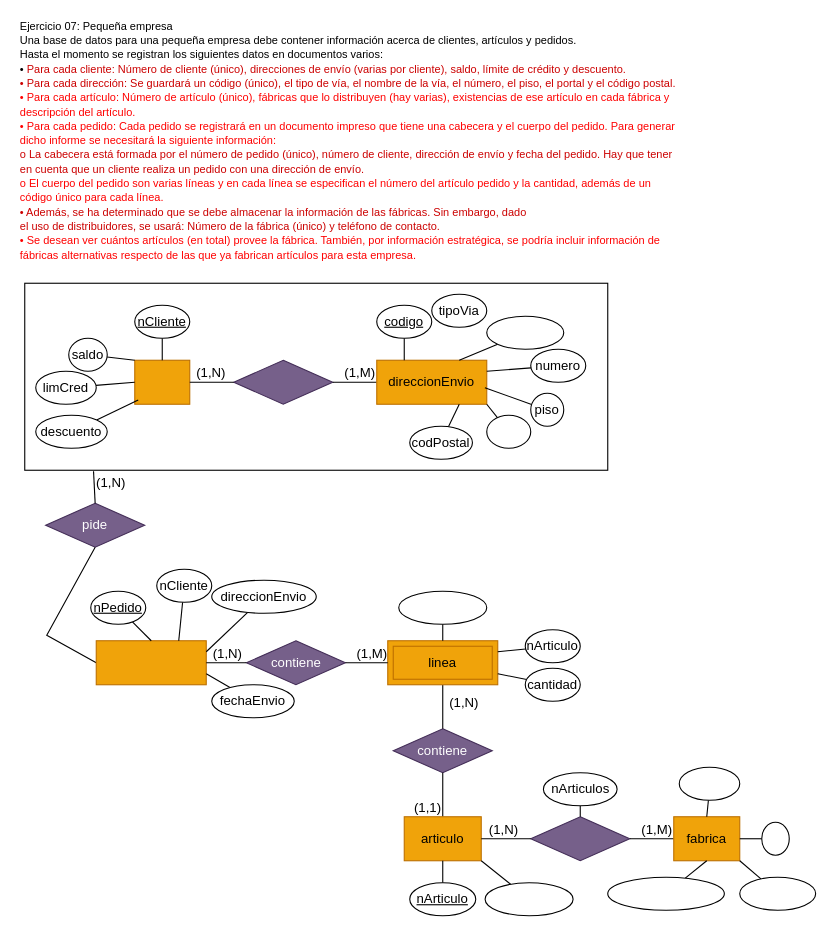
This 835x935 diagram has some shape labels left out. Here are the shapes that lost their labels. From the top down, the centre of each, then its label:
At (525,332): "nombreVia".
At (162,381): "cliente".
At (283,381): "tiene".
At (508,431): "portal".
At (442,607): "codigoLinea".
At (150,662): "pedido".
At (709,783): "nFabrica".
At (580,838): "proviene".
At (775,838): "tlf".
At (528,899): "descripcion".
At (665,893): "nArticulosTotales".
At (777,893): "infoExtra".
